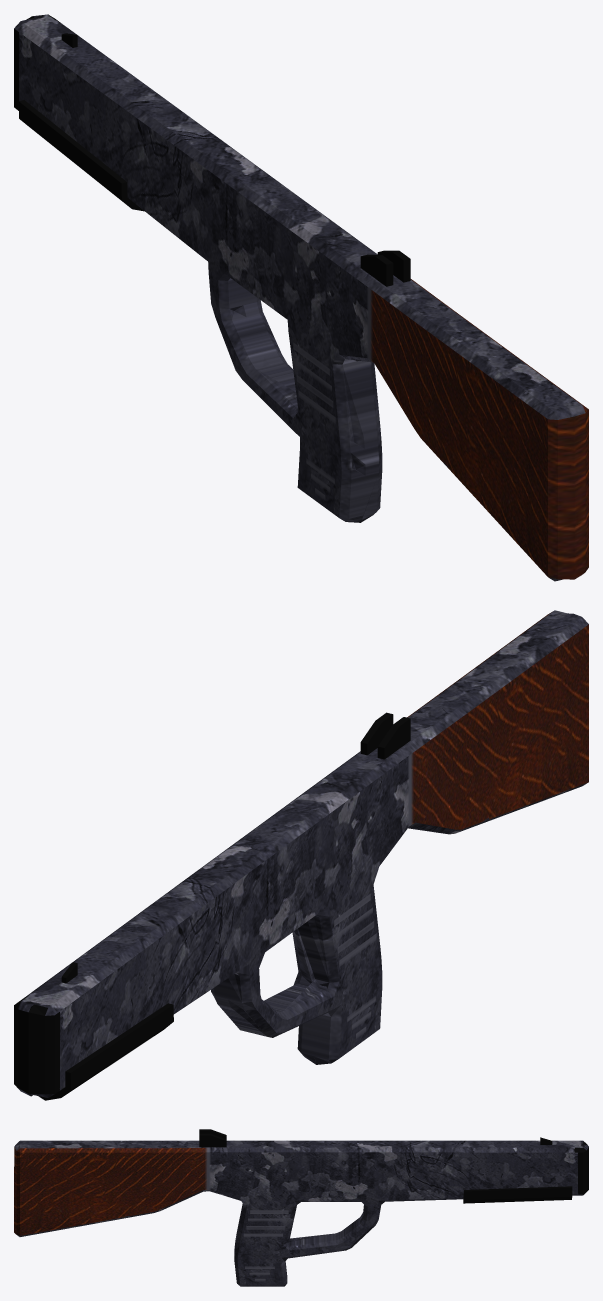
File: strzelba.obj
The picture shows the model from 3 angles, top to bottom: view 1: azimuth 30°, elevation 25°; view 2: azimuth 150°, elevation 25°; view 3: azimuth 270°, elevation 25°; orthographic projection. The views are drawn at different scales.
Visible parts, largest first — view 1: Cube_Cube.001; view 2: Cube_Cube.001; view 3: Cube_Cube.001.
Part boxes in pixels (box(x1,y1,x2,y2)): Cube_Cube.001: box(14, 14, 588, 581); Cube_Cube.001: box(14, 610, 588, 1100); Cube_Cube.001: box(14, 1129, 588, 1286).
Bounding box in the file's own units: 0.4211 × 2.24 × 7.65.
